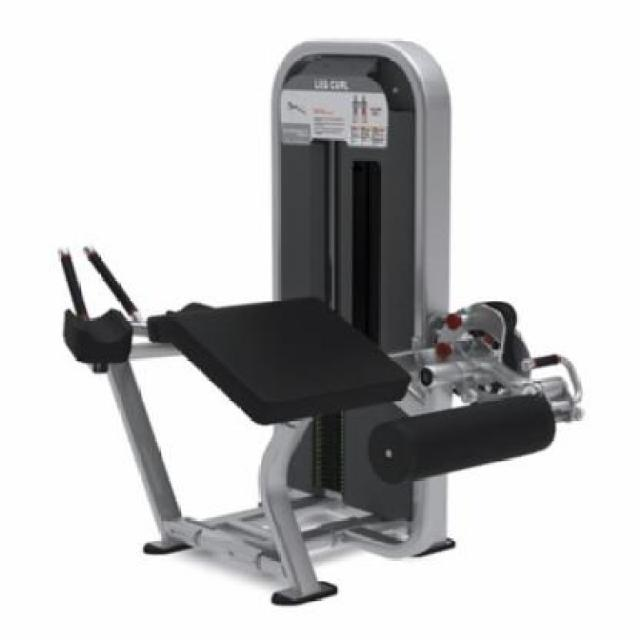reg curl machine: (57, 23, 591, 608)
